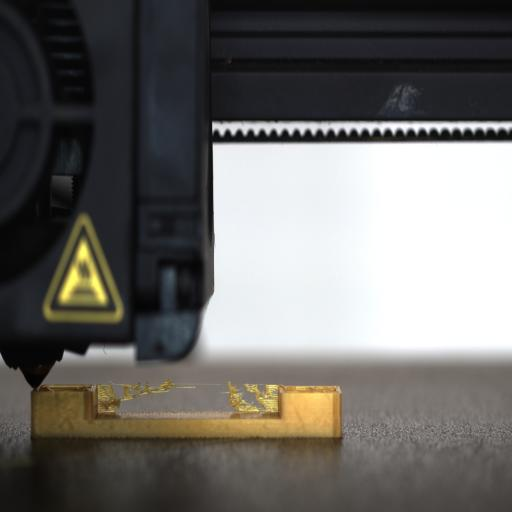stringing: (97, 380, 279, 414)
